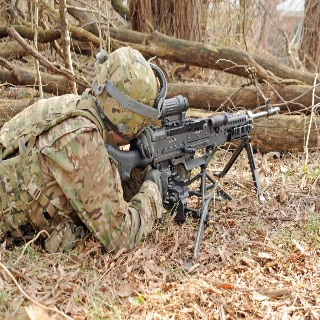rifle: (102, 95, 284, 257)
